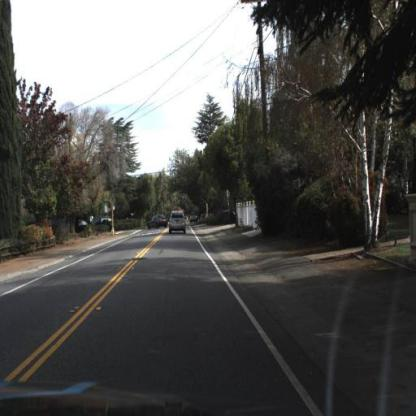car: (169, 208, 193, 237), (146, 213, 169, 233), (190, 211, 200, 227)
